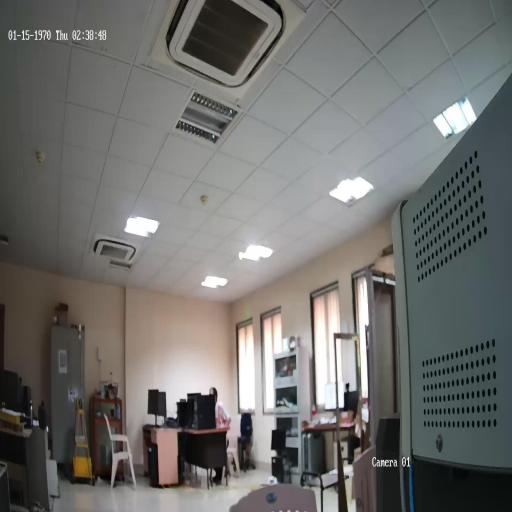laser: (237, 248, 243, 264)
